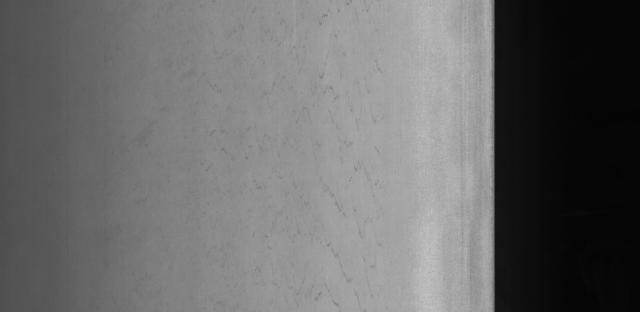silk_spot: (274, 67, 389, 305)
